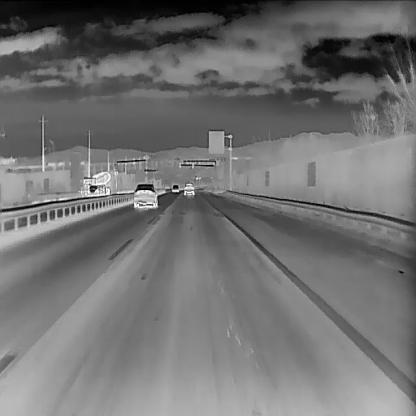car: (79, 170, 111, 198), (132, 182, 158, 206), (182, 181, 194, 195), (170, 183, 179, 192)
